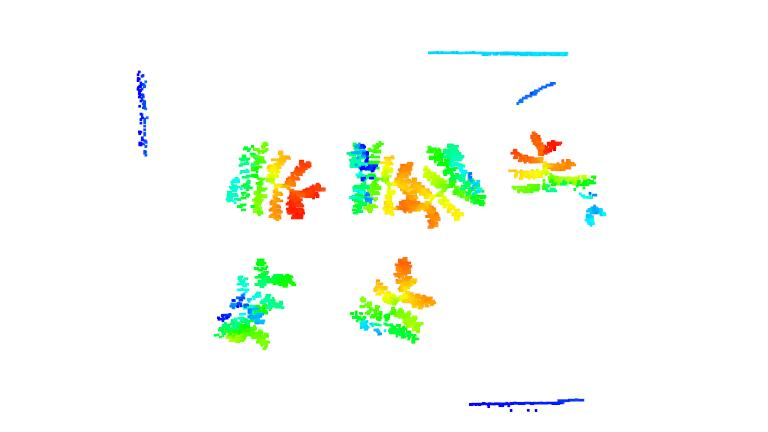chickpea: (220, 142, 329, 222), (394, 142, 489, 230), (210, 255, 296, 349), (347, 256, 438, 344), (507, 131, 595, 192), (347, 140, 415, 216)
